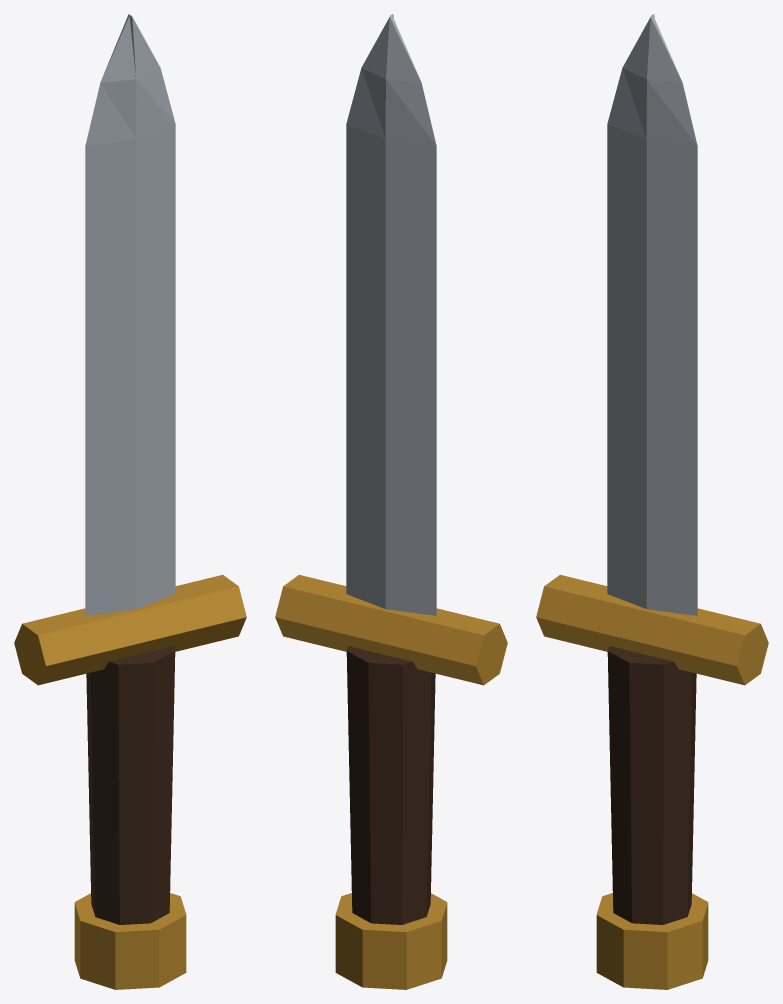
The model's file is g-dagger.glb.
The picture shows the model from 3 angles, left to right: view 1: azimuth 30°, elevation 25°; view 2: azimuth 150°, elevation 25°; view 3: azimuth 330°, elevation 25°; orthographic projection.
Visible parts, largest first — view 1: g-dagger; view 2: g-dagger; view 3: g-dagger.
Part boxes in pixels (x1,y1,x2,y2): g-dagger: (14, 14, 246, 989); g-dagger: (275, 14, 507, 989); g-dagger: (536, 14, 768, 989).
Bounding box in the file's own units: 0.08 × 0.362 × 0.04.
